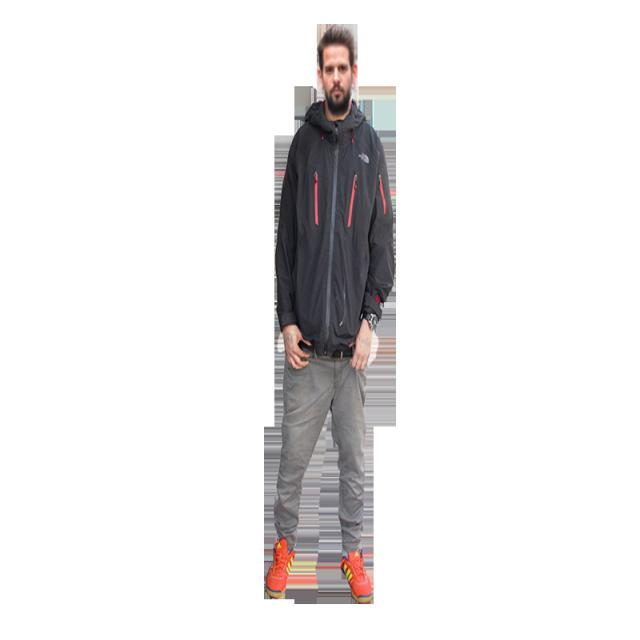jovem: (246, 19, 400, 594)
